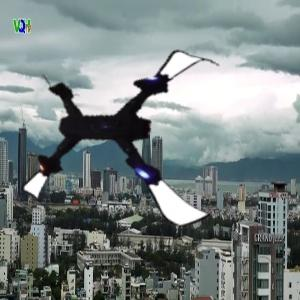drone: (31, 30, 229, 228)
